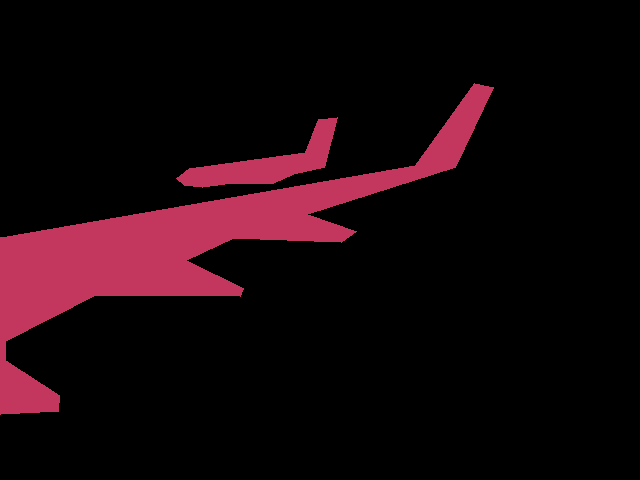Airplane: (0, 83, 493, 414), (176, 117, 338, 187)
